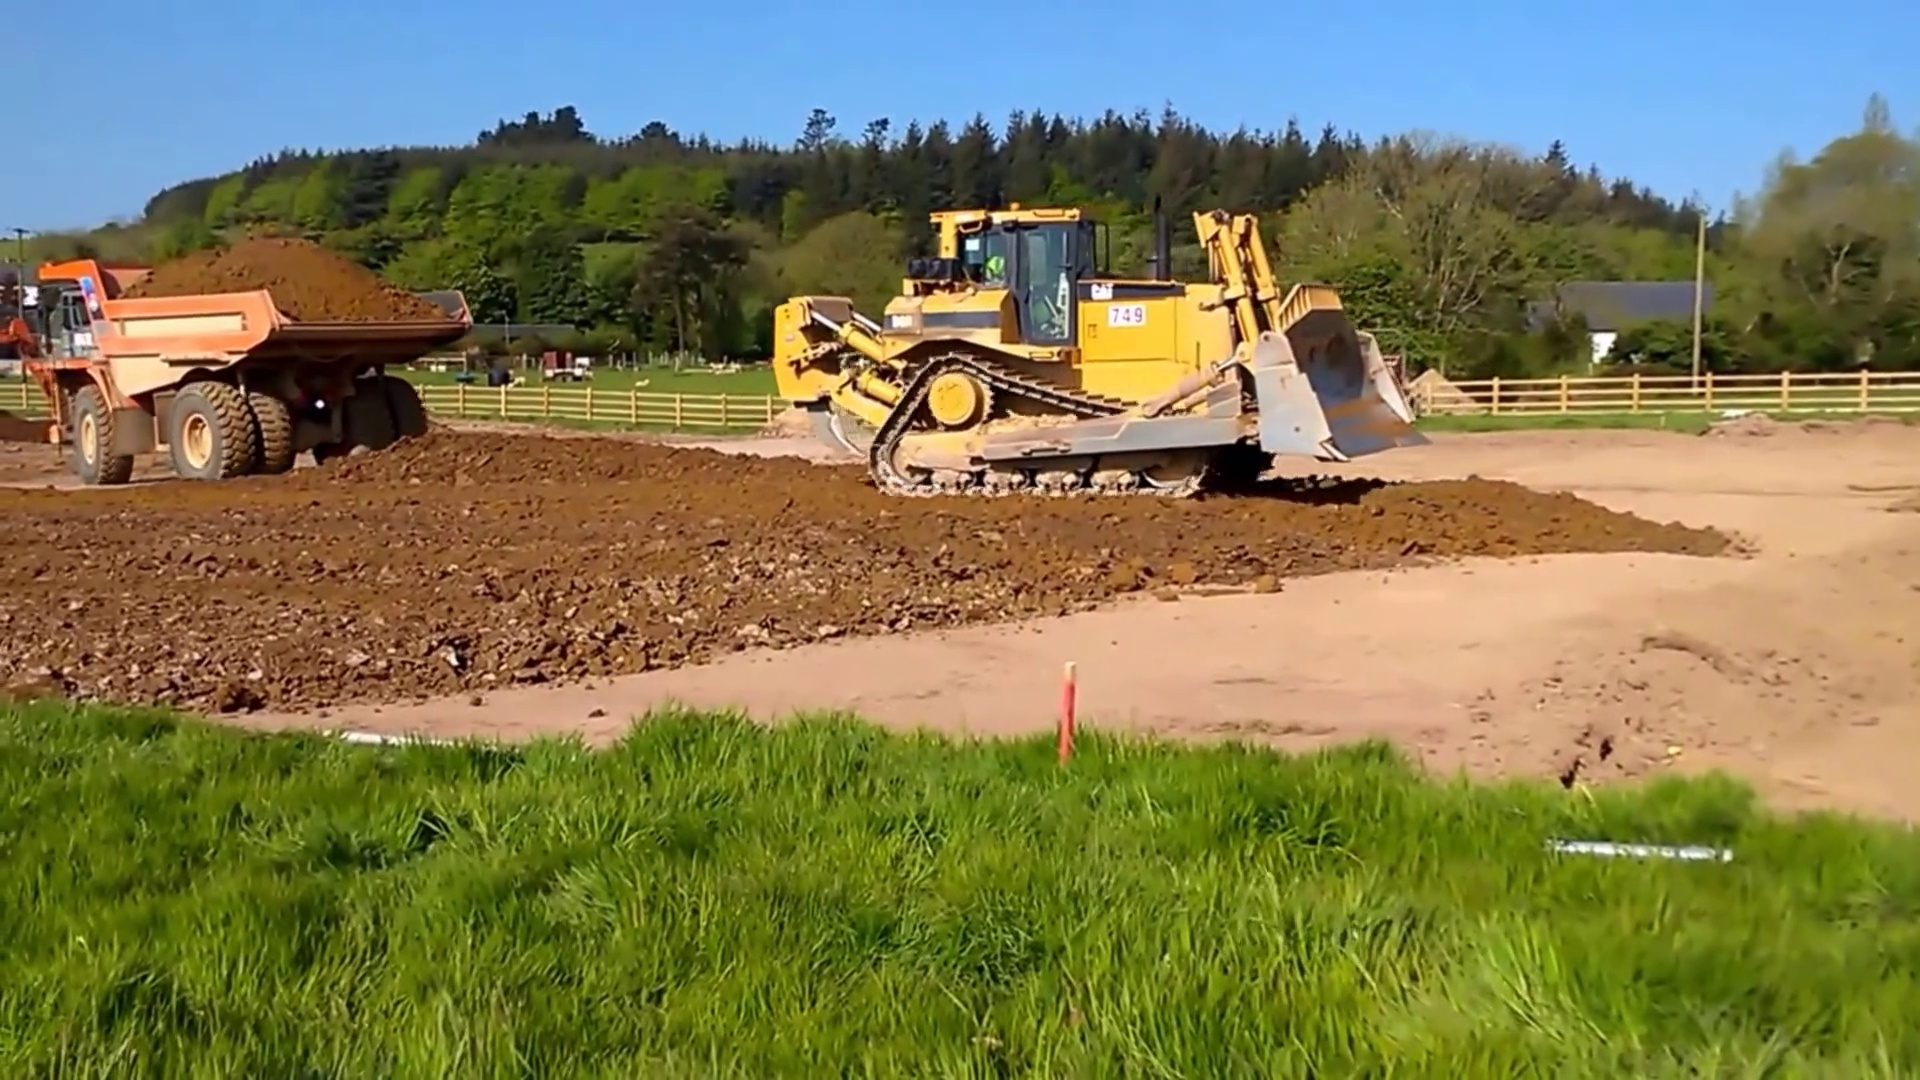bulldozer: (773, 210, 1432, 495)
dumper: (40, 256, 473, 476)
